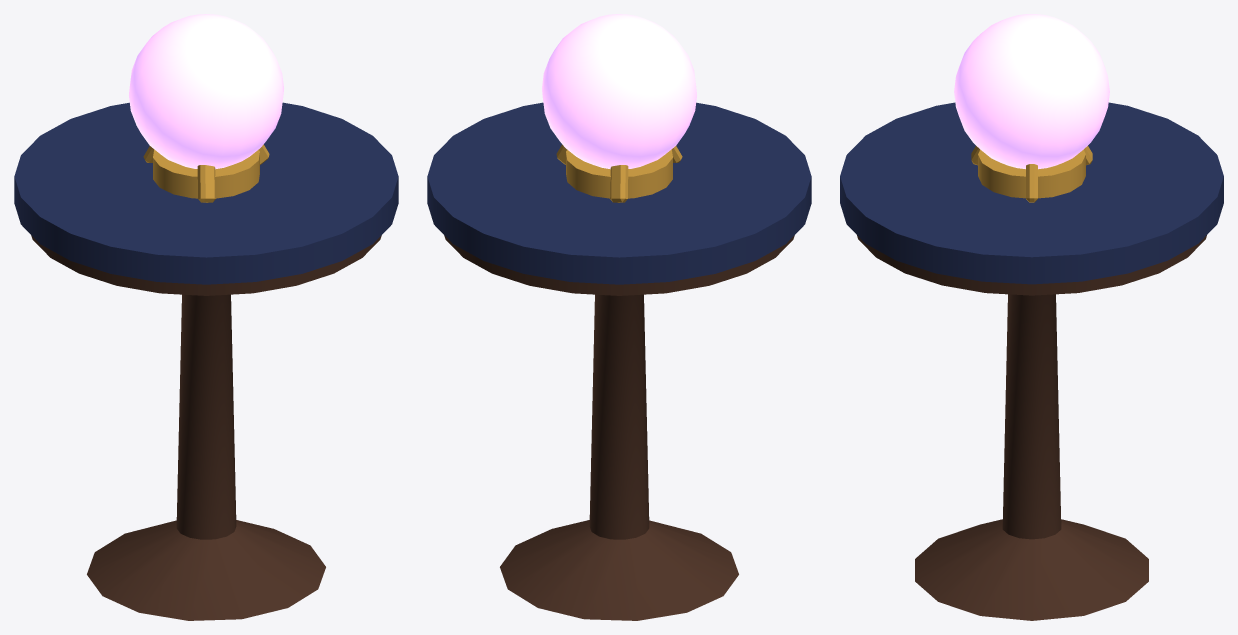
Rendered from magic_crystal_ball.glb.
3 renders of one model, left to right at view 1: azimuth 30°, elevation 25°; view 2: azimuth 150°, elevation 25°; view 3: azimuth 270°, elevation 25°, orthographic.
Visible parts, largest first — view 1: magic_crystal_ball; view 2: magic_crystal_ball; view 3: magic_crystal_ball.
Part boxes in pixels (bbox=[...]): magic_crystal_ball: bbox=[14, 14, 398, 620]; magic_crystal_ball: bbox=[427, 14, 811, 620]; magic_crystal_ball: bbox=[840, 14, 1223, 620].
Bounding box in the file's own units: 0.64 × 1.01 × 0.64.
